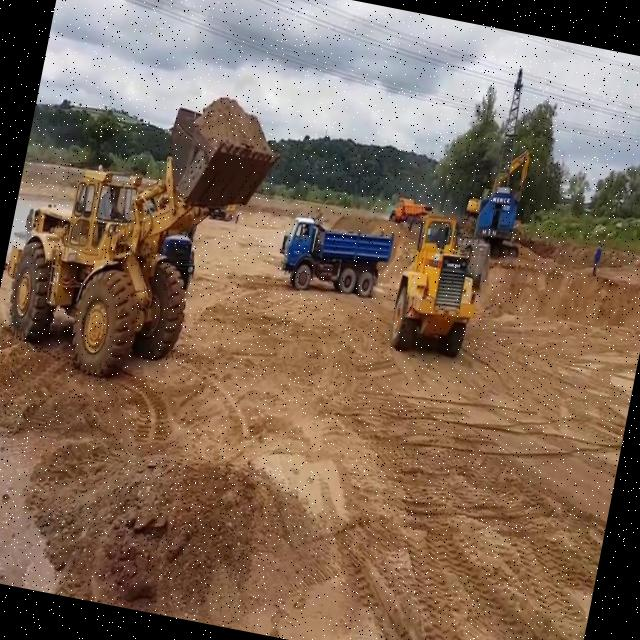Dump Truck: (274, 208, 404, 308), (394, 193, 434, 230)
Excavator: (462, 139, 534, 234)
Loader: (0, 66, 288, 407), (384, 209, 488, 362)
Mobile Crane: (469, 63, 554, 257)
